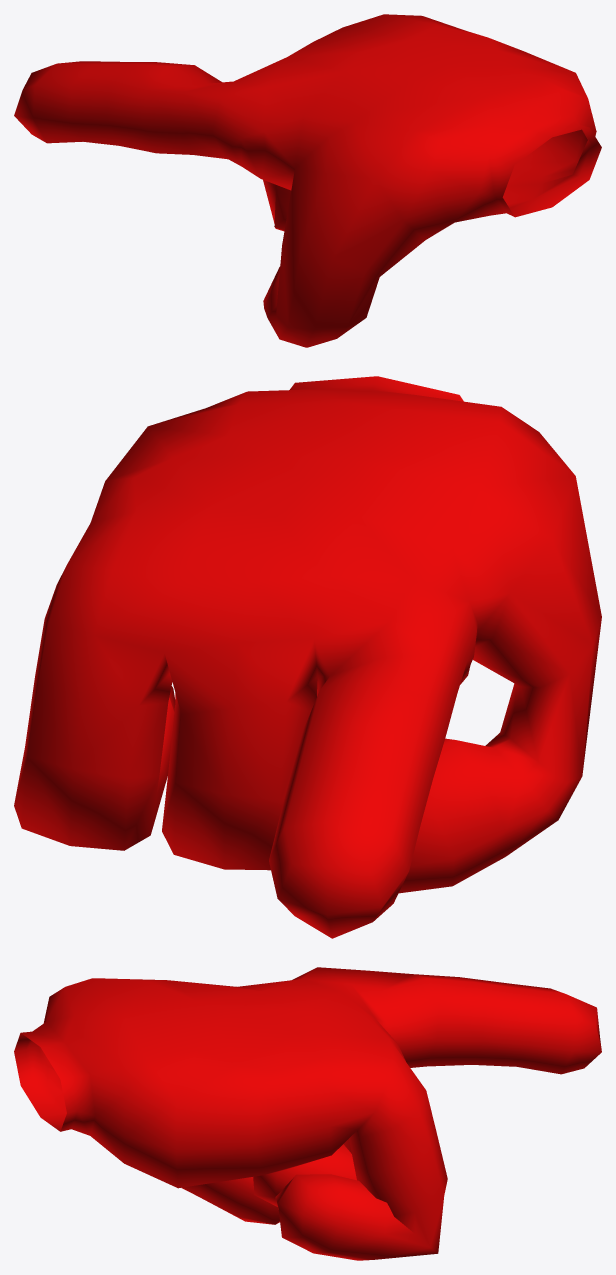
Rendered from Pointer_Hand_Right.dae.
3 renders of one model, top to bottom at view 1: azimuth 30°, elevation 25°; view 2: azimuth 150°, elevation 25°; view 3: azimuth 270°, elevation 25°, orthographic. The views are drawn at different scales.
Visible parts, largest first — view 1: Pointer_Hand; view 2: Pointer_Hand; view 3: Pointer_Hand.
Part boxes in pixels (x1=…): Pointer_Hand: x1=14, y1=14, x2=601, y2=347; Pointer_Hand: x1=14, y1=376, x2=601, y2=938; Pointer_Hand: x1=14, y1=967, x2=601, y2=1260.
Bounding box in the file's own units: 0.0262 × 0.0354 × 0.0173.
